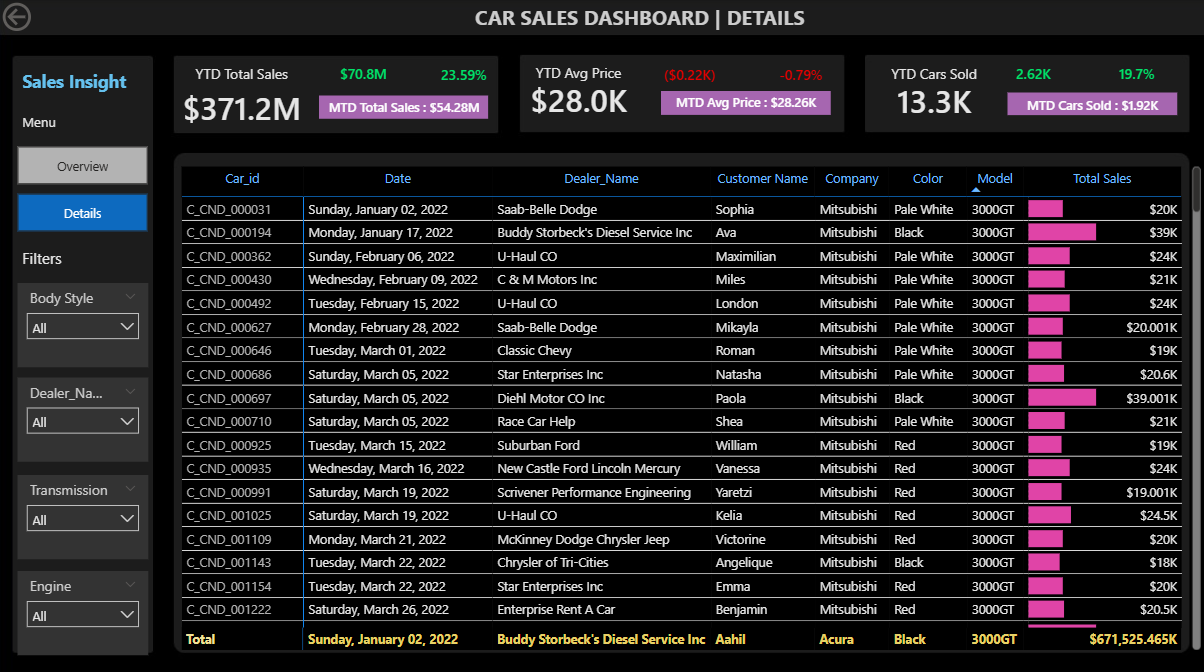

The page's visual inventory and layout, read from the dashboard file:
{"tool":"powerbi","page":{"name":"Details","canvas":[1280,720],"ordinal":1},"visuals":[{"type":"card","title":"YTD Total Sales","fields":{"Values":["car_data.YearToDate Total Sales"]},"box":[189.3,70,138.4,73.2],"z":0},{"type":"card","fields":{"Values":["car_data.Sales Diff"]},"box":[343.9,62.4,86.9,39.7],"z":1000},{"type":"card","fields":{"Values":["car_data.YearOnYear Sales Growth"]},"box":[449.8,62.4,86.9,41.6],"z":2000},{"type":"card","fields":{"Values":["car_data.MTD Total KPI"]},"box":[340.2,103.9,179.5,24.6],"z":3000},{"type":"card","title":"YTD Avg Price","fields":{"Values":["car_data.YTD Avg price"]},"box":[553.5,68.4,124.1,58.9],"z":4000},{"type":"card","fields":{"Values":["car_data.Avg Price Diff"]},"box":[690.3,63.6,85.9,39.8],"z":5000},{"type":"card","fields":{"Values":["car_data.YOY Avg Price Growth"]},"box":[808,63.6,85.9,39.8],"z":6000},{"type":"card","fields":{"Values":["car_data.MTD Avg Price KPI"]},"box":[703.1,98.6,179.7,25.4],"z":7000},{"type":"card","title":"YTD Cars Sold","fields":{"Values":["car_data.YTD Cars Sold"]},"box":[930.5,70,124.1,58.9],"z":8000},{"type":"card","fields":{"Values":["car_data.Cars Sold Diff"]},"box":[1054.6,62,85.9,39.8],"z":9000},{"type":"card","fields":{"Values":["car_data.YOY Cars Sold Growth"]},"box":[1164.3,62,85.9,39.8],"z":10000},{"type":"card","fields":{"Values":["car_data.MTD Cars Sold KPI"]},"box":[1070.5,100.2,179.7,23.9],"z":11000},{"type":"textbox","box":[407.2,0,547.2,46.1],"z":12000},{"type":"slicer","fields":{"Values":["car_data.Body Style"]},"box":[20.7,302.2,138.4,89.1],"z":13000},{"type":"slicer","fields":{"Values":["car_data.Dealer_Name"]},"box":[20.7,402.4,138.4,89.1],"z":14000},{"type":"slicer","fields":{"Values":["car_data.Transmission"]},"box":[20.7,505.8,138.4,89.1],"z":15000},{"type":"slicer","fields":{"Values":["car_data.Engine"]},"box":[20.7,607.6,138.4,89.1],"z":16000},{"type":"textbox","box":[20.7,259.3,138.4,31.8],"z":17000},{"type":"pivotTable","fields":{"Rows":["car_data.Car_id"],"Values":["car_data.Date","car_data.Dealer_Name","car_data.Customer Name","car_data.Company","car_data.Color","car_data.Model","car_data.Total Sales"]},"box":[189.3,173.4,1091.2,523.3],"z":18000},{"type":"actionButton","box":[0,0,100,40],"z":19000},{"type":"textbox","box":[20.7,70,138.4,54.1],"z":19001},{"type":"textbox","box":[20.7,116.1,138.4,41.4],"z":19002},{"type":"pageNavigator","box":[20.7,157.5,138.4,90.7],"z":19003}]}

Visuals, with their boxes on the page's 1280x720 design canvas (x1, y1, x2, y2). These are canvas units, not pixel positions in the 1204x672 screenshot, which may show the page scaled, cropped or inside an application window:
"YTD Total Sales" card: [x1=189, y1=70, x2=328, y2=143]
card - car_data.Sales Diff: [x1=344, y1=62, x2=431, y2=102]
card - car_data.YearOnYear Sales Growth: [x1=450, y1=62, x2=537, y2=104]
card - car_data.MTD Total KPI: [x1=340, y1=104, x2=520, y2=128]
"YTD Avg Price" card: [x1=554, y1=68, x2=678, y2=127]
card - car_data.Avg Price Diff: [x1=690, y1=64, x2=776, y2=103]
card - car_data.YOY Avg Price Growth: [x1=808, y1=64, x2=894, y2=103]
card - car_data.MTD Avg Price KPI: [x1=703, y1=99, x2=883, y2=124]
"YTD Cars Sold" card: [x1=930, y1=70, x2=1055, y2=129]
card - car_data.Cars Sold Diff: [x1=1055, y1=62, x2=1140, y2=102]
card - car_data.YOY Cars Sold Growth: [x1=1164, y1=62, x2=1250, y2=102]
card - car_data.MTD Cars Sold KPI: [x1=1070, y1=100, x2=1250, y2=124]
textbox: [x1=407, y1=0, x2=954, y2=46]
slicer - car_data.Body Style: [x1=21, y1=302, x2=159, y2=391]
slicer - car_data.Dealer_Name: [x1=21, y1=402, x2=159, y2=492]
slicer - car_data.Transmission: [x1=21, y1=506, x2=159, y2=595]
slicer - car_data.Engine: [x1=21, y1=608, x2=159, y2=697]
textbox: [x1=21, y1=259, x2=159, y2=291]
pivotTable - car_data.Car_id x car_data.Date: [x1=189, y1=173, x2=1280, y2=697]
actionButton: [x1=0, y1=0, x2=100, y2=40]
textbox: [x1=21, y1=70, x2=159, y2=124]
textbox: [x1=21, y1=116, x2=159, y2=158]
pageNavigator: [x1=21, y1=158, x2=159, y2=248]
